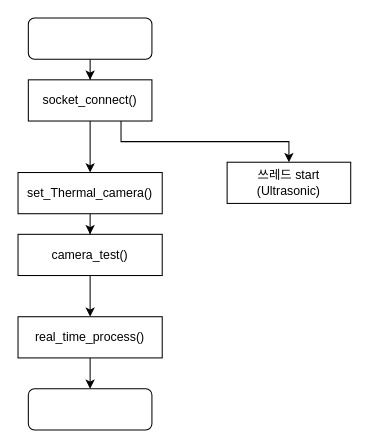
This 369x448 diagram has some shape labels left out. Each missing label, with the centre of its shape:
end: the point at 89,409
start: the point at 89,38
